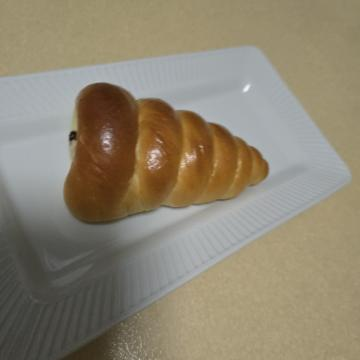cream horn: (67, 78, 250, 315)
